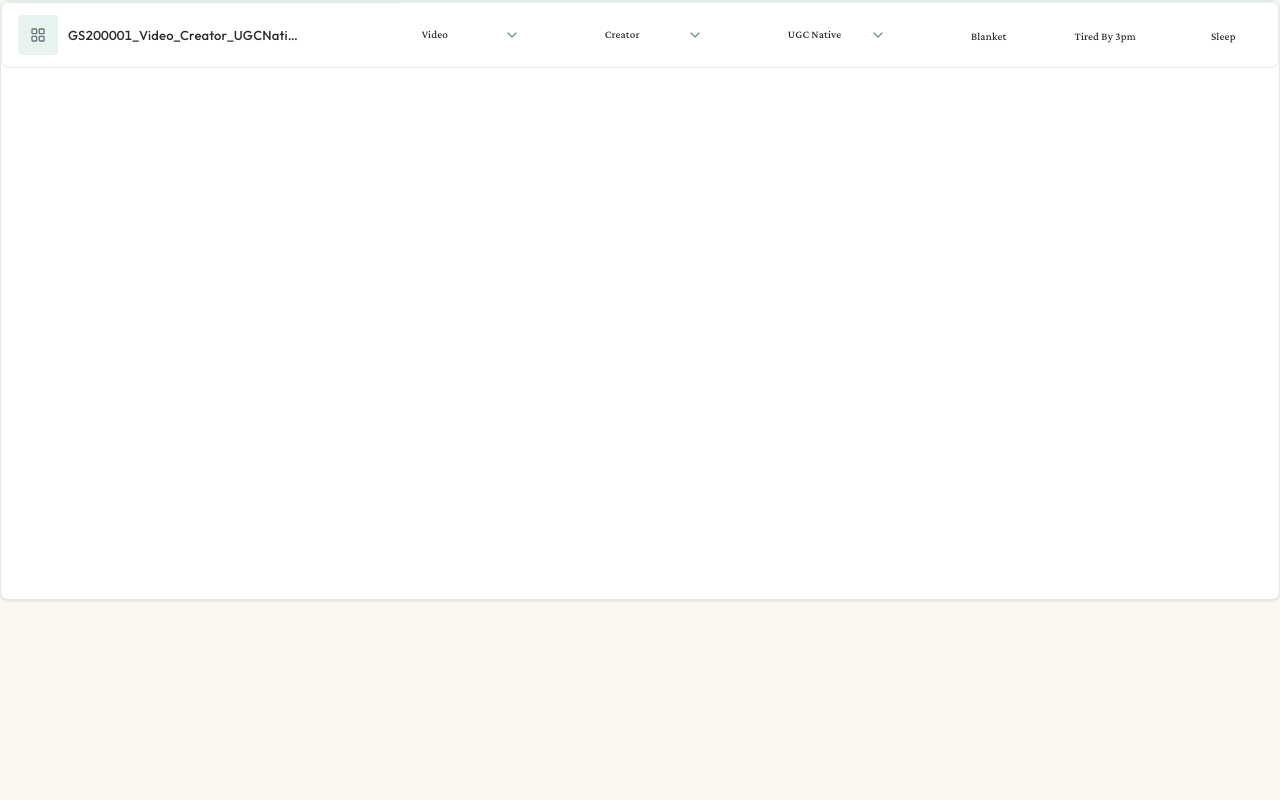
editable tag cells › Escape cancels a free-text edit without saving
The width and height of the screenshot is (1280, 800).
Click the button with aria-label "Theme: Sleep" at (1223, 37), box [1204,25,1243,49]
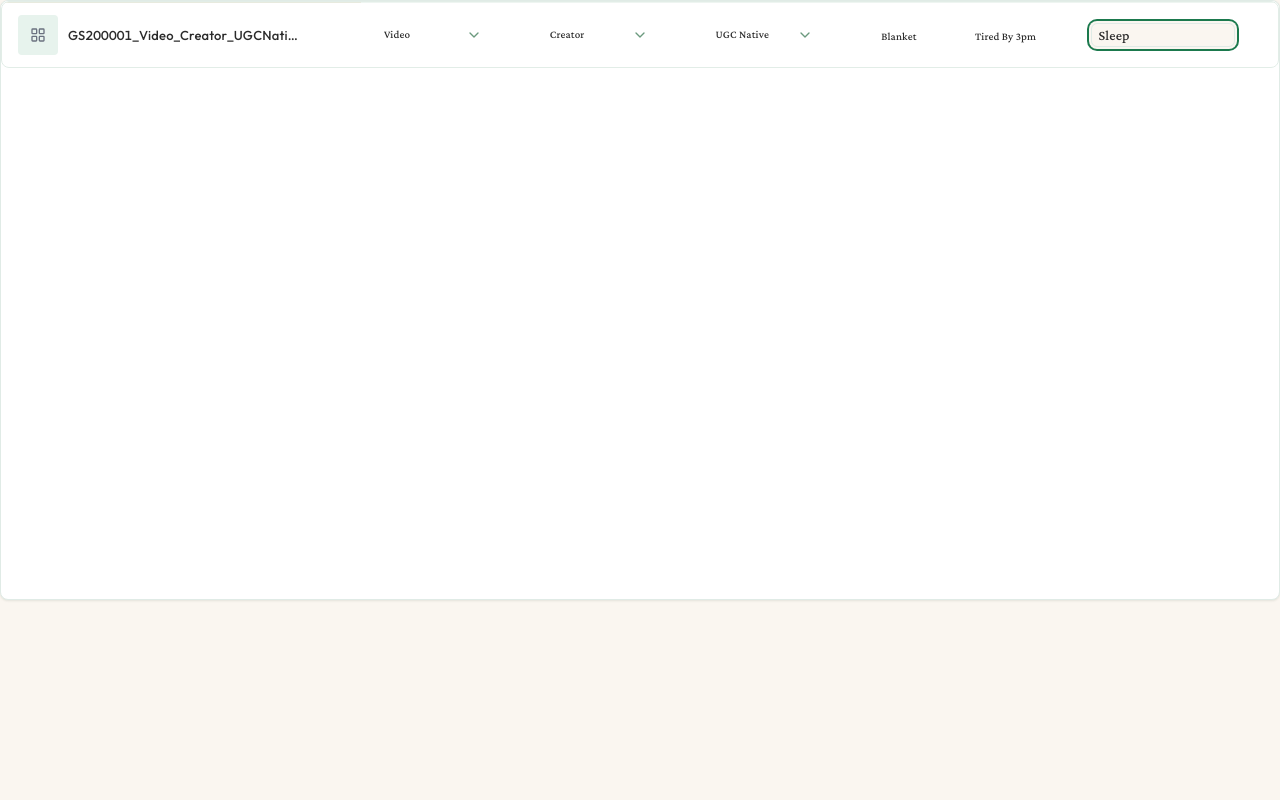
Replace the text in the field named "Edit Theme" with "Other" at (1163, 35), box [1091,23,1235,47]
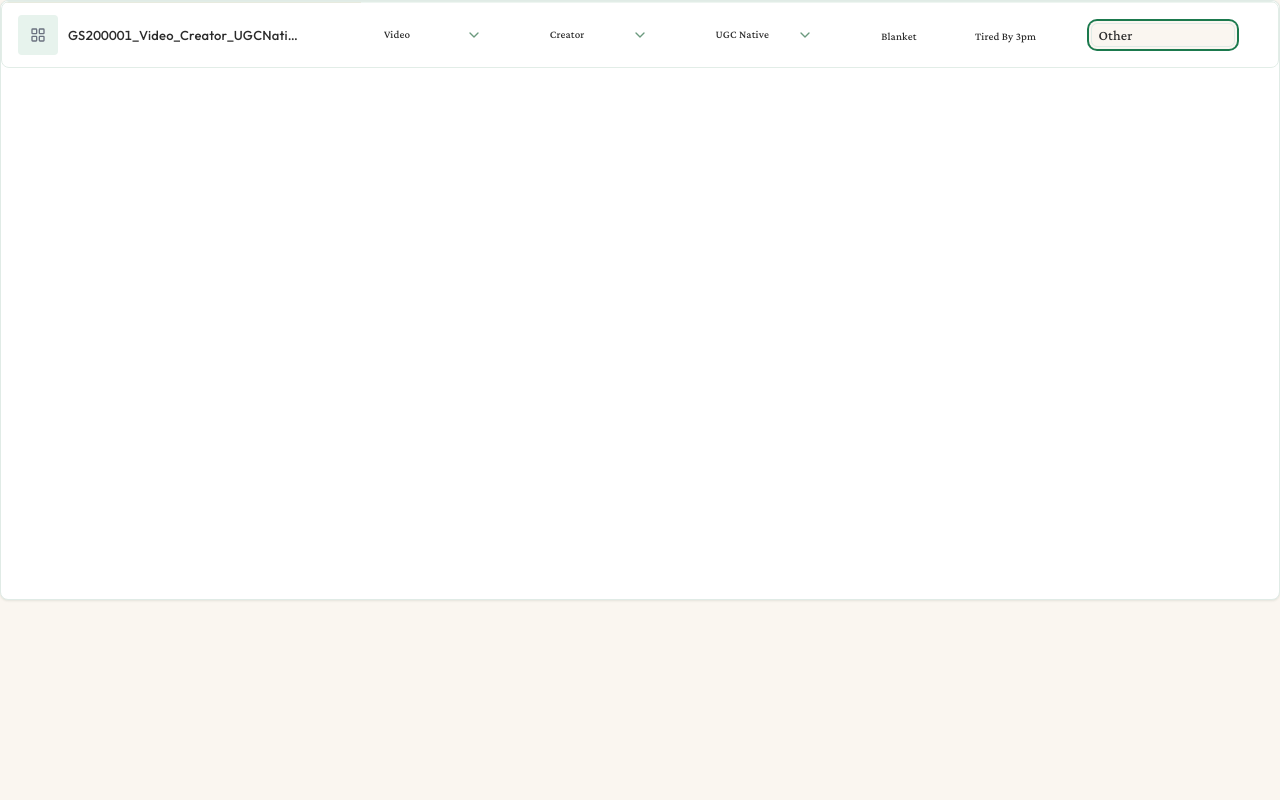
Press Escape in the field named "Edit Theme", box [1091,23,1235,47]
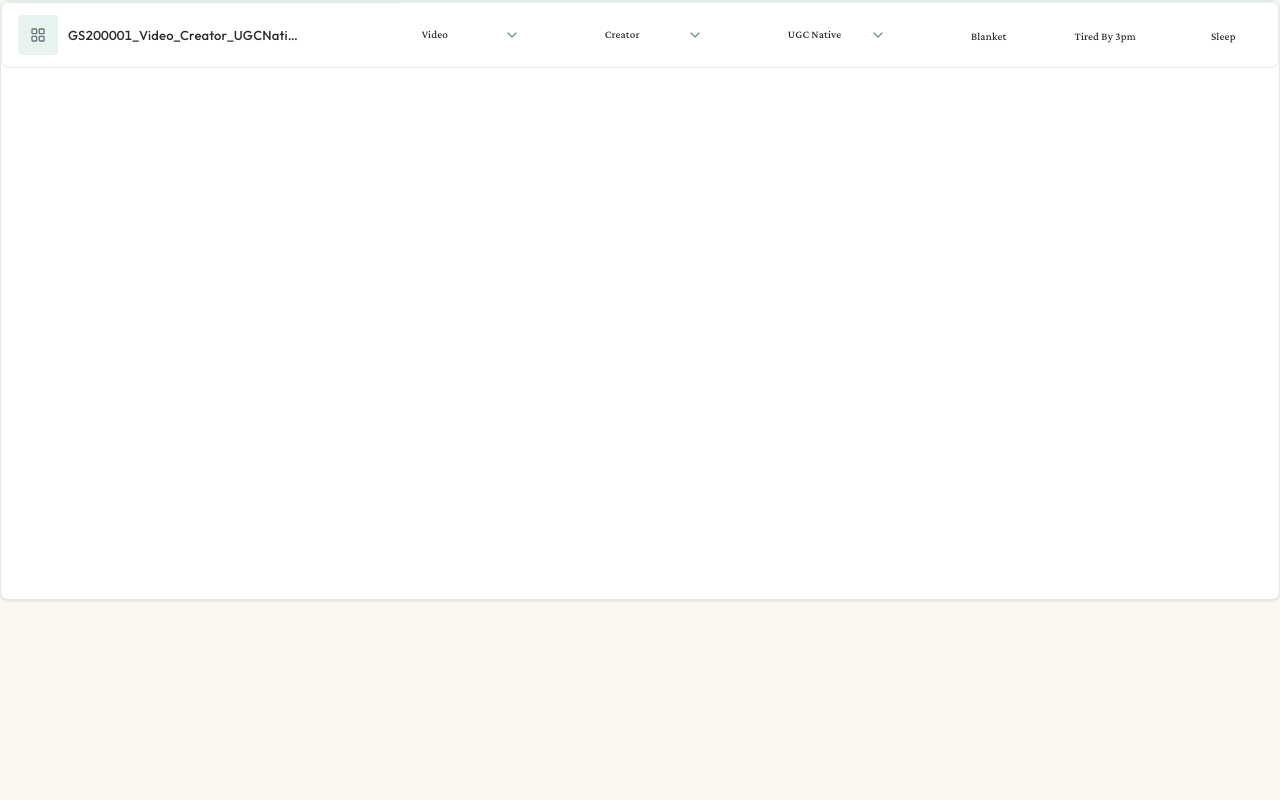
Expected: the button with aria-label "Theme: Sleep" is shown, [1204,25,1243,49]
